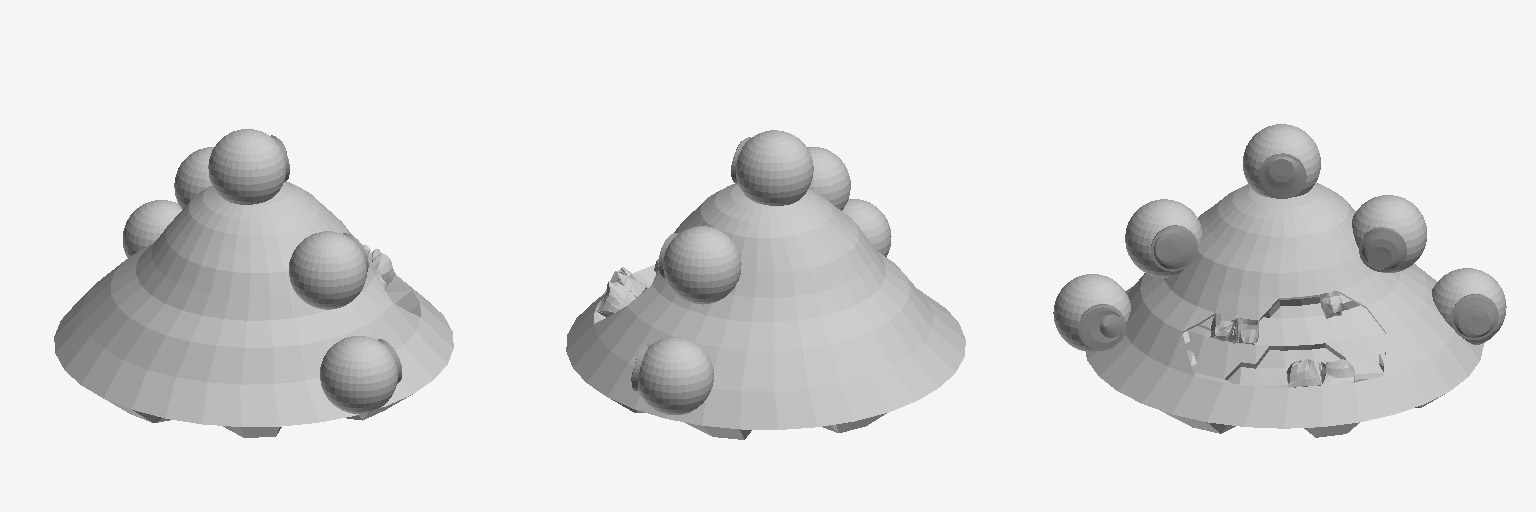
The picture shows the model from 3 angles: view 1: azimuth 30°, elevation 25°; view 2: azimuth 150°, elevation 25°; view 3: azimuth 270°, elevation 25°; orthographic projection.
Visible parts, largest first — view 1: Sphere.003_Sphere.004; view 2: Sphere.003_Sphere.004; view 3: Sphere.003_Sphere.004, Sphere.002_Sphere.009, Sphere.004_Sphere.010, Sphere.001_Sphere.008, Sphere, Sphere.005_Sphere.011.
Part boxes in pixels (left/top/right/bottom): Sphere.003_Sphere.004: left=54, top=129, right=453, bottom=437; Sphere.003_Sphere.004: left=566, top=130, right=965, bottom=439; Sphere.003_Sphere.004: left=1053, top=124, right=1506, bottom=437; Sphere.002_Sphere.009: left=1078, top=304, right=1125, bottom=350; Sphere.004_Sphere.010: left=1451, top=294, right=1498, bottom=339; Sphere.001_Sphere.008: left=1258, top=153, right=1306, bottom=198; Sphere: left=1151, top=225, right=1197, bottom=271; Sphere.005_Sphere.011: left=1359, top=227, right=1406, bottom=271.
Size of the model in its own units: 15.29 by 10.5 by 17.3.